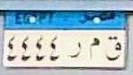4: (47, 35, 60, 62), (34, 36, 46, 62), (6, 36, 16, 64), (21, 36, 31, 60)
meem: (87, 37, 102, 61)
qaaf: (104, 35, 123, 61)
raa: (70, 42, 83, 59)
